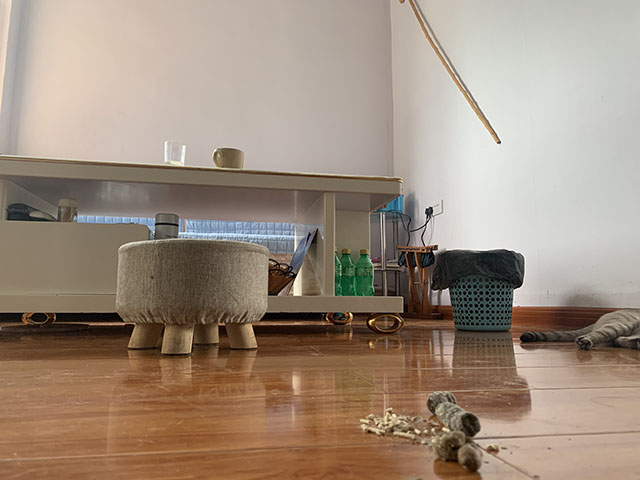feces: (425, 390, 484, 472)
stool: (113, 236, 270, 356), (394, 245, 444, 321)
table: (1, 153, 407, 336), (369, 210, 412, 310)
trashcan: (430, 247, 525, 333)
